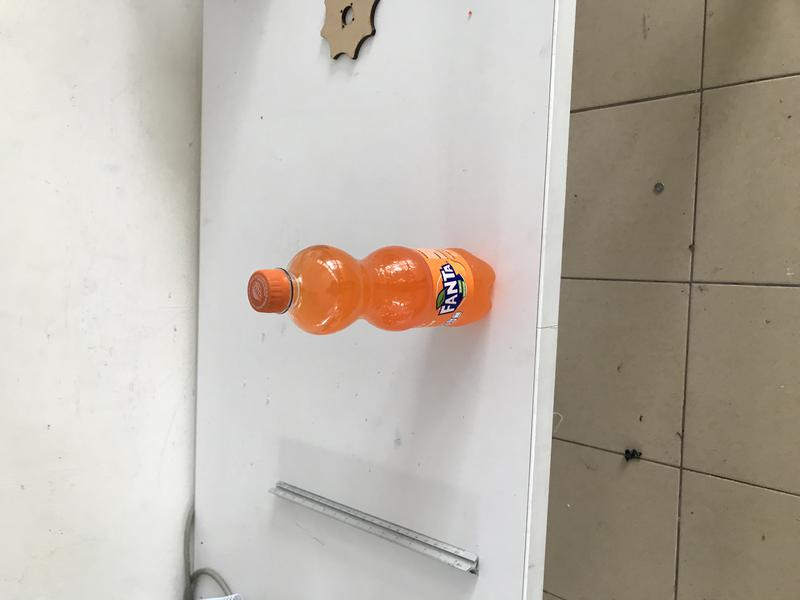fanta: (250, 245, 498, 336)
